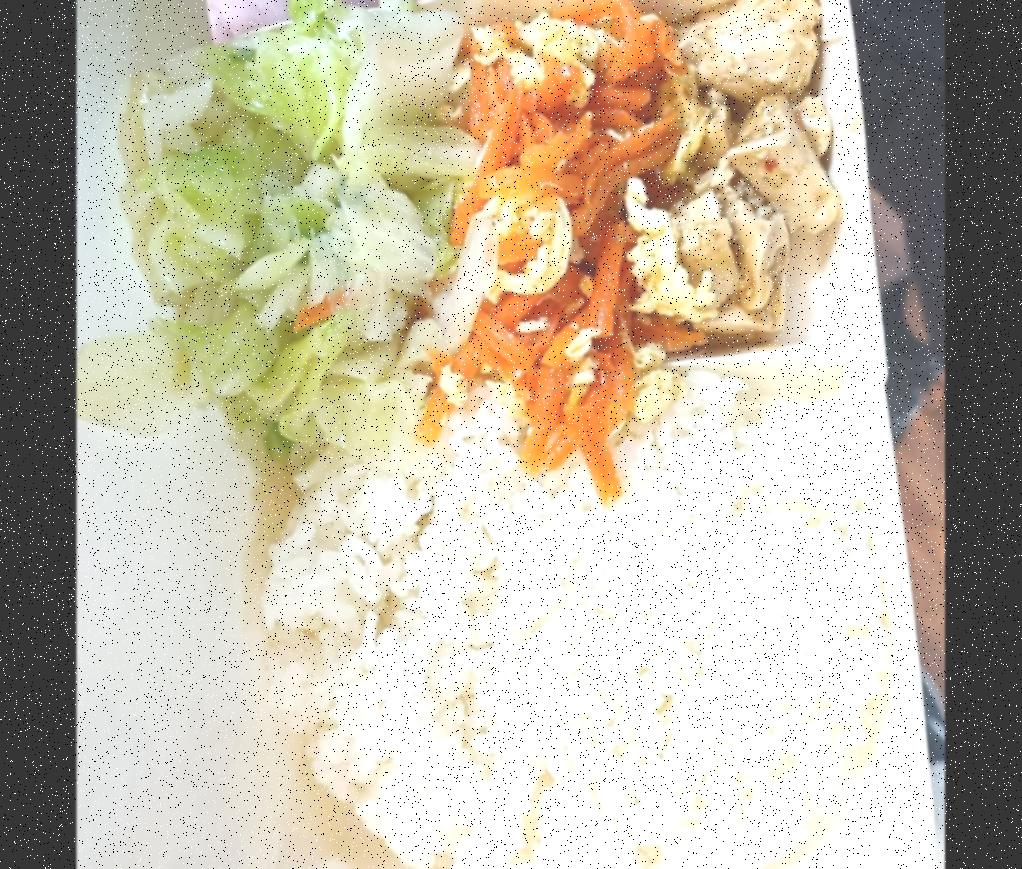box: (218, 0, 945, 869)
side dish: (104, 0, 448, 461), (430, 1, 666, 436), (625, 0, 837, 325)
white rice: (268, 370, 883, 869)
